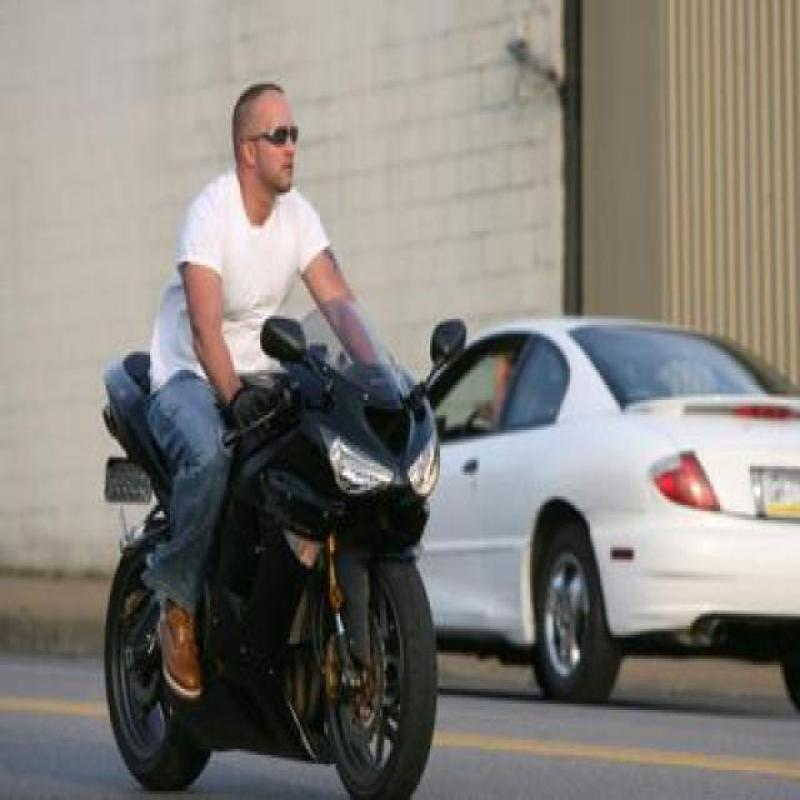nohelmet: (223, 68, 309, 202)
